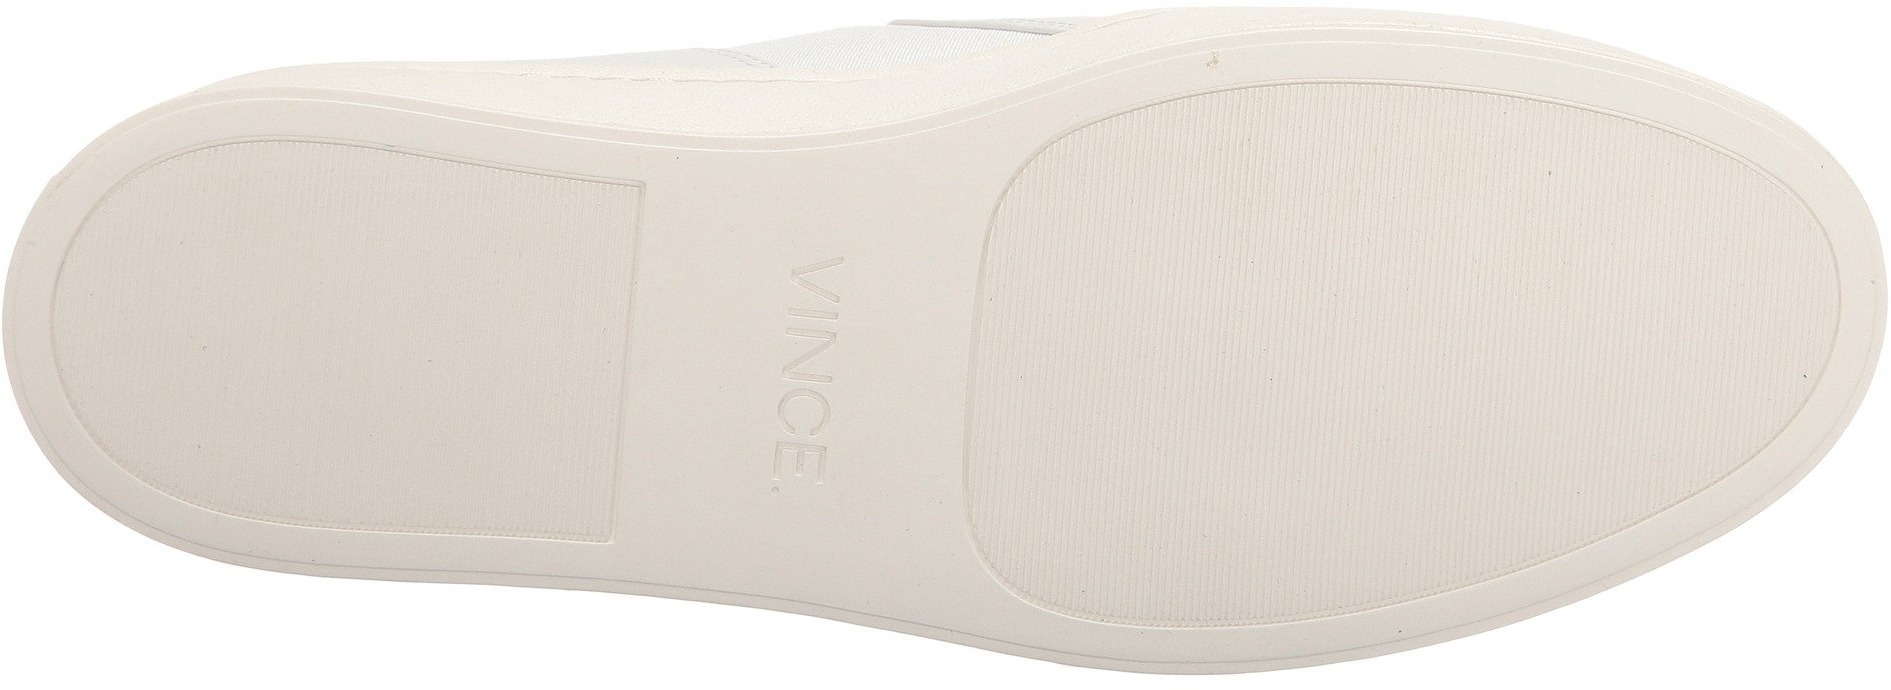other: (1241, 106, 1530, 382), (326, 169, 578, 450), (996, 211, 1234, 466), (1541, 166, 1755, 408), (99, 205, 316, 428), (1241, 387, 1466, 581), (1062, 476, 1196, 602), (1483, 414, 1606, 531)
text: (727, 251, 868, 372), (734, 380, 856, 497)
